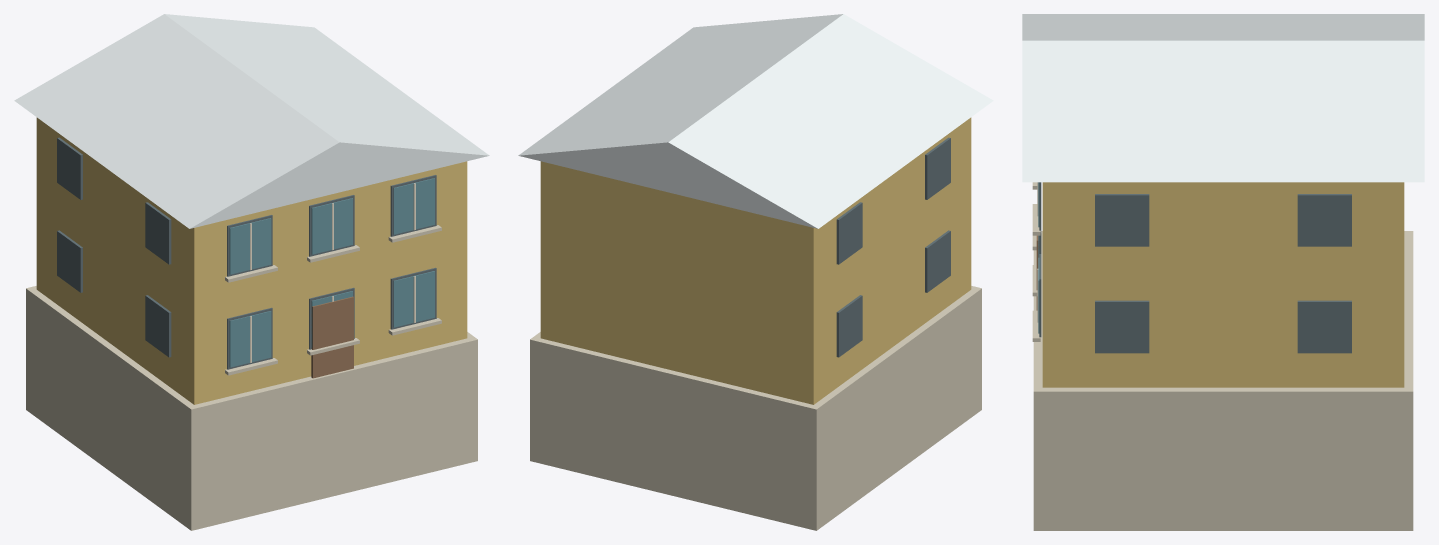
File: polar-1.glb
3 views of the same model, side by side, from view 1: azimuth 30°, elevation 25°; view 2: azimuth 150°, elevation 25°; view 3: azimuth 270°, elevation 25° (orthographic). The views are drawn at different scales.
Size of the model in its own units: 8.8 by 10 by 8.9.
